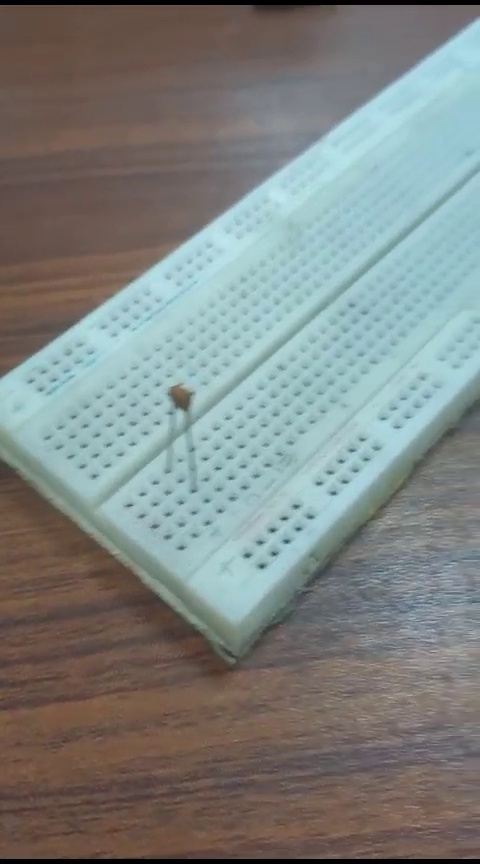ceramic capacitor: (154, 371, 203, 488)
